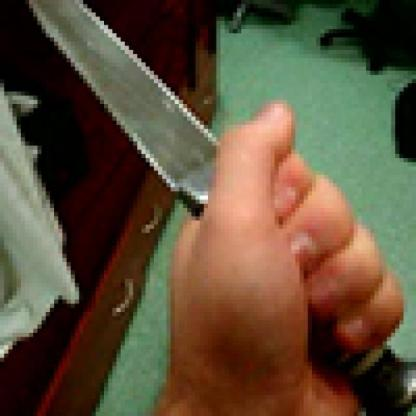Knife: (33, 0, 412, 404)
